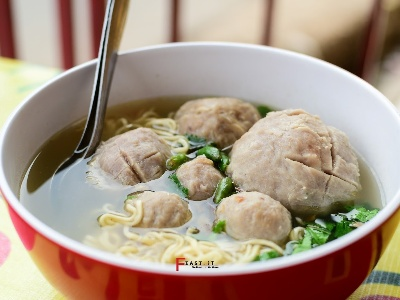bakso: (98, 89, 350, 244)
